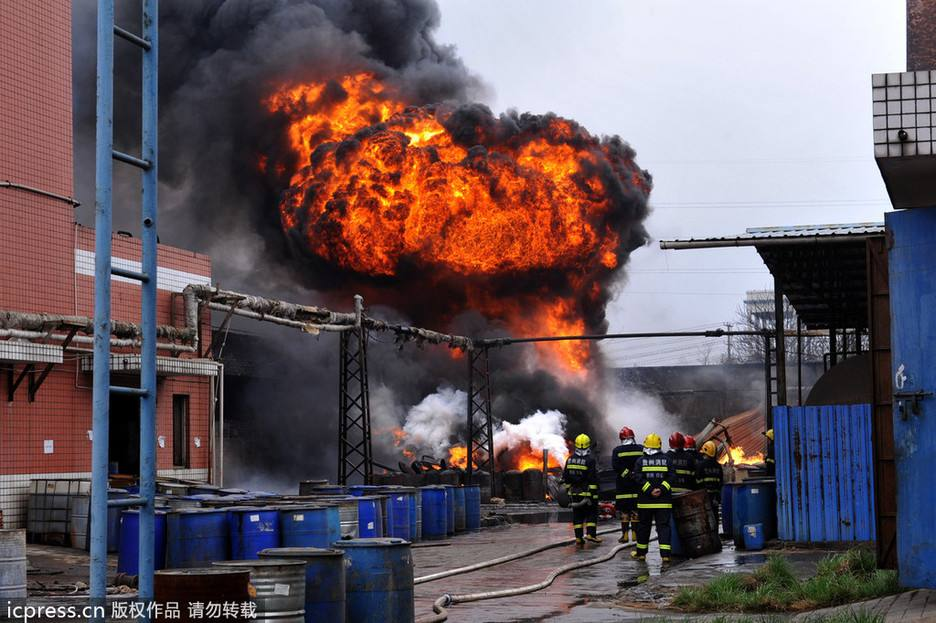fire: (260, 58, 645, 368)
